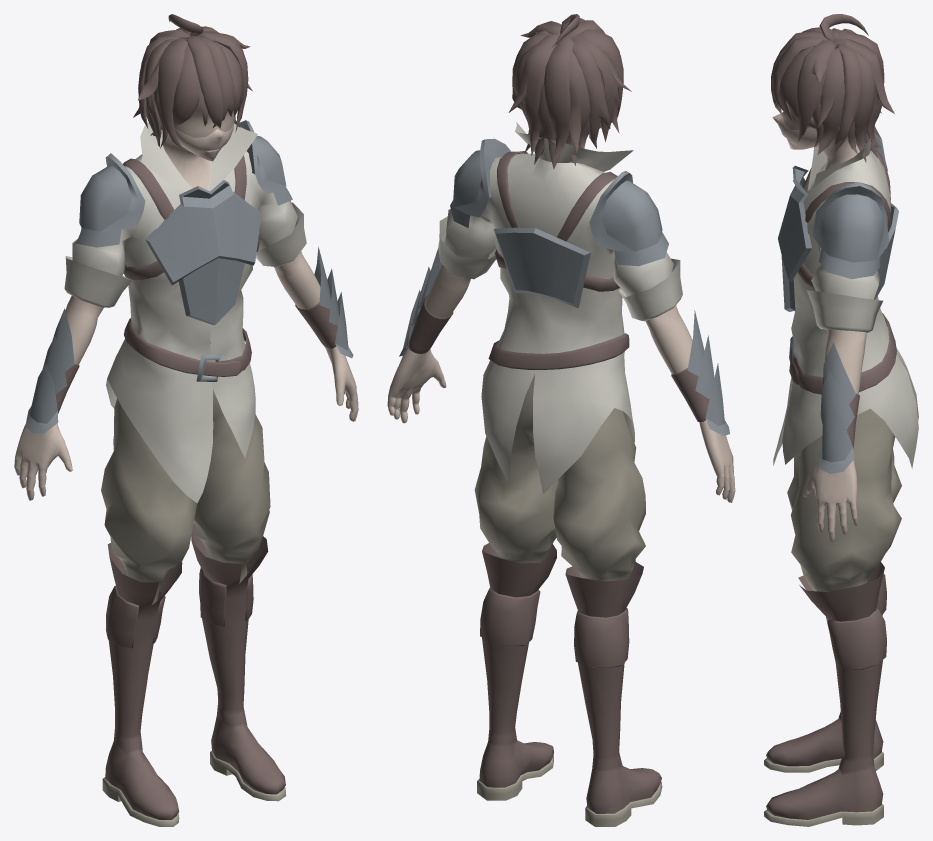
The model's file is Protagonist.fbx.
The picture shows the model from 3 angles, left to right: view 1: azimuth 30°, elevation 25°; view 2: azimuth 150°, elevation 25°; view 3: azimuth 270°, elevation 25°; orthographic projection.
Parts seen in each view (by area): view 1: Shirt, Boots, Pants, Arm, Chest_Armor, Hair, Shoulder_Pads, Cuffs, Head, collar, Belt, Straps; view 2: Shirt, Boots, Pants, Hair, Arm, Shoulder_Pads, Back_Armor, Cuffs, Belt, Straps, collar; view 3: Boots, Shirt, Pants, Hair, Arm, Shoulder_Pads, Chest_Armor, Cuffs, Belt, Head, Straps, collar (+1 smaller).
Part boxes in pixels (bbox=[...]): Shirt: bbox=[72, 143, 297, 503]; Boots: bbox=[102, 523, 286, 826]; Pants: bbox=[101, 342, 270, 604]; Arm: bbox=[14, 230, 358, 500]; Chest_Armor: bbox=[145, 180, 261, 325]; Hair: bbox=[133, 14, 252, 149]; Shoulder_Pads: bbox=[76, 120, 292, 247]; Cuffs: bbox=[64, 202, 306, 307]; Head: bbox=[148, 101, 234, 189]; collar: bbox=[140, 122, 257, 191]; Belt: bbox=[124, 318, 251, 381]; Straps: bbox=[123, 155, 259, 280]; Shirt: bbox=[444, 153, 673, 494]; Boots: bbox=[477, 543, 662, 826]; Pants: bbox=[474, 374, 645, 581]; Hair: bbox=[508, 14, 631, 169]; Arm: bbox=[387, 248, 735, 502]; Shoulder_Pads: bbox=[450, 138, 668, 266]; Back_Armor: bbox=[493, 227, 590, 308]; Cuffs: bbox=[438, 216, 682, 321]; Belt: bbox=[488, 333, 629, 369]; Straps: bbox=[494, 151, 619, 291]; collar: bbox=[515, 122, 633, 171]; Boots: bbox=[764, 562, 886, 826]; Shirt: bbox=[773, 150, 918, 468]; Pants: bbox=[787, 408, 901, 591]; Hair: bbox=[771, 14, 894, 162]; Arm: bbox=[804, 329, 866, 542]; Shoulder_Pads: bbox=[812, 133, 888, 279]; Chest_Armor: bbox=[778, 165, 811, 311]; Cuffs: bbox=[807, 290, 882, 332]; Belt: bbox=[789, 313, 896, 394]; Head: bbox=[772, 105, 859, 188]; Straps: bbox=[797, 149, 890, 288]; collar: bbox=[807, 138, 870, 190].
Bounding box in the file's own units: 1.38 × 3.05 × 0.5542.
